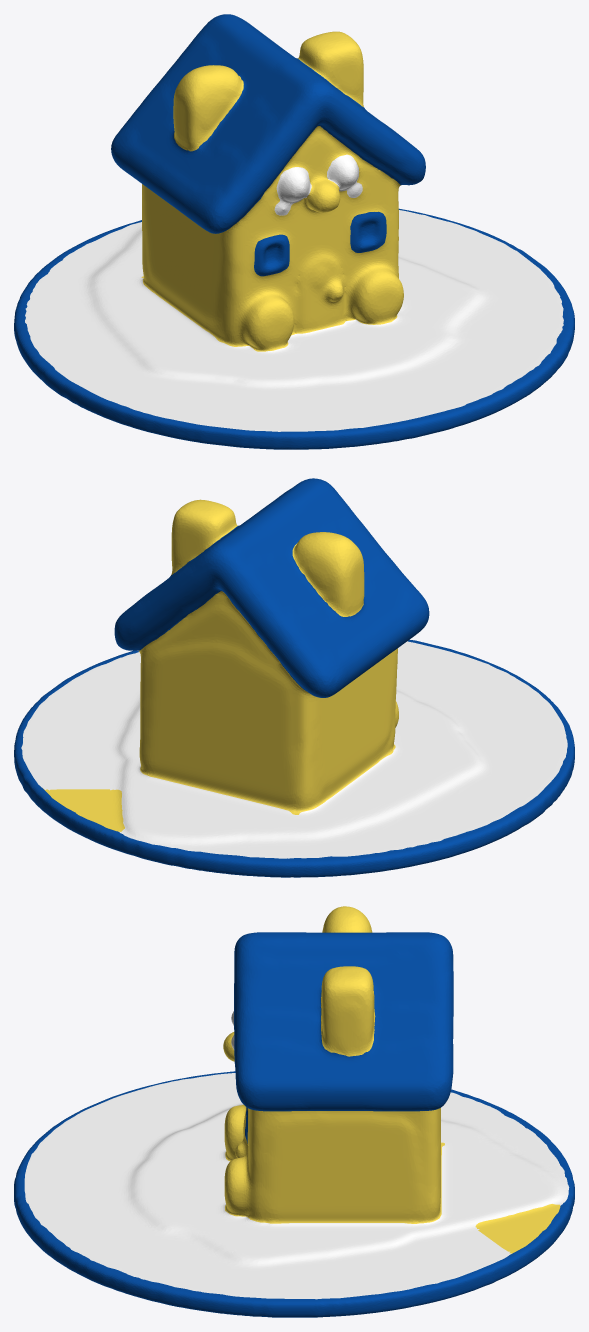
File: ngoi_nha.glb
3 renders of one model, top to bottom at view 1: azimuth 30°, elevation 25°; view 2: azimuth 150°, elevation 25°; view 3: azimuth 270°, elevation 25°, orthographic.
Parts seen in each view (by area): view 1: part_3, part_1, part_2; view 2: part_3, part_2, part_1; view 3: part_3, part_1, part_2.
Part boxes in pixels (x1,y1,x2,y2): part_3: (25,154,563,431); part_1: (14,14,574,449); part_2: (141,31,403,351); part_3: (21,641,567,858); part_2: (43,499,398,831); part_1: (14,478,574,877); part_3: (24,1011,569,1299); part_1: (14,932,574,1317); part_2: (223,906,560,1254).
Bounding box in the file's own units: 2.61 × 1.37 × 2.61.
